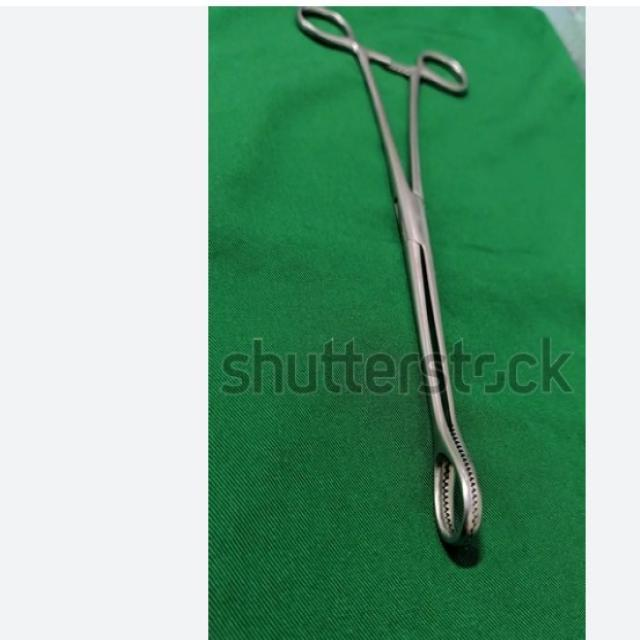Sponge Holding Forceps: (289, 8, 494, 564)
